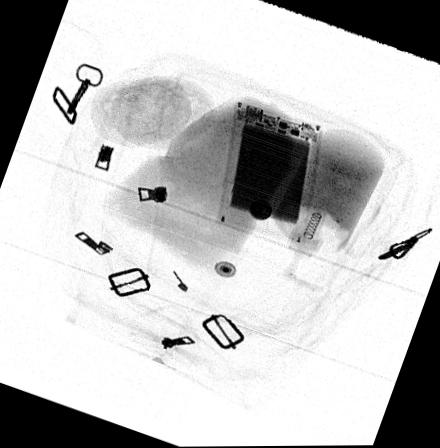Powerbank: (215, 99, 323, 251)
